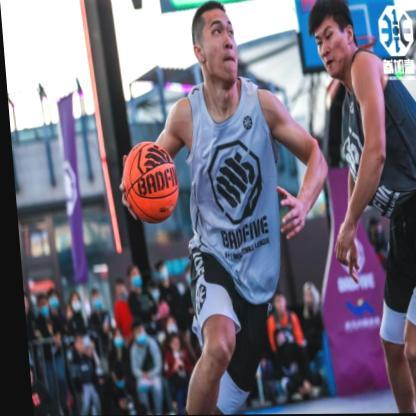basketball: (120, 141, 177, 225)
